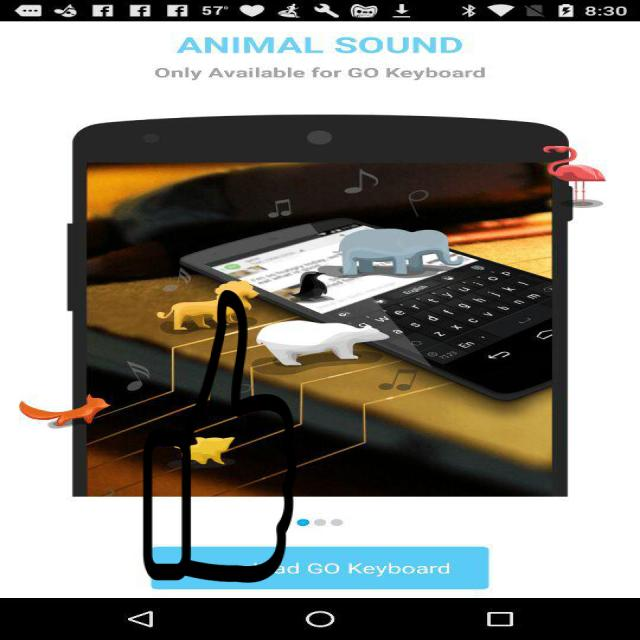privacy zuckering: (141, 290, 299, 583)
